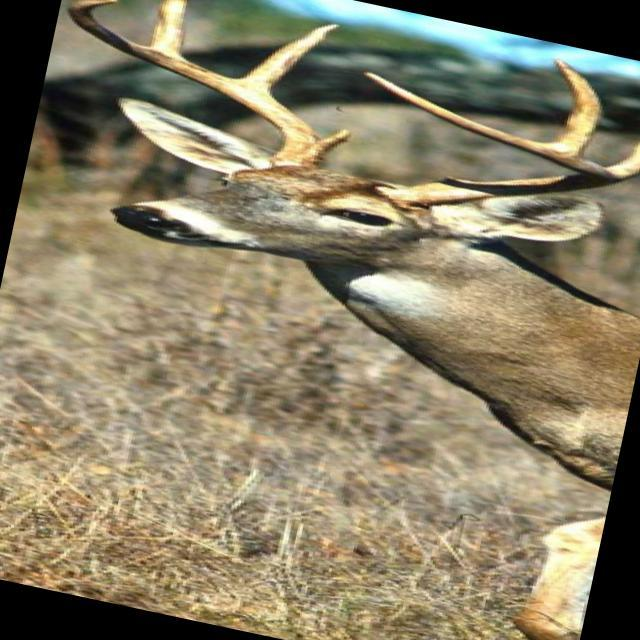L-F: (362, 71, 619, 210)
L-G1: (606, 141, 640, 181)
L-G2: (543, 58, 602, 158)
R-G1: (314, 127, 352, 151)
R-G2: (234, 23, 341, 94)
R-G3: (150, 0, 190, 57)
